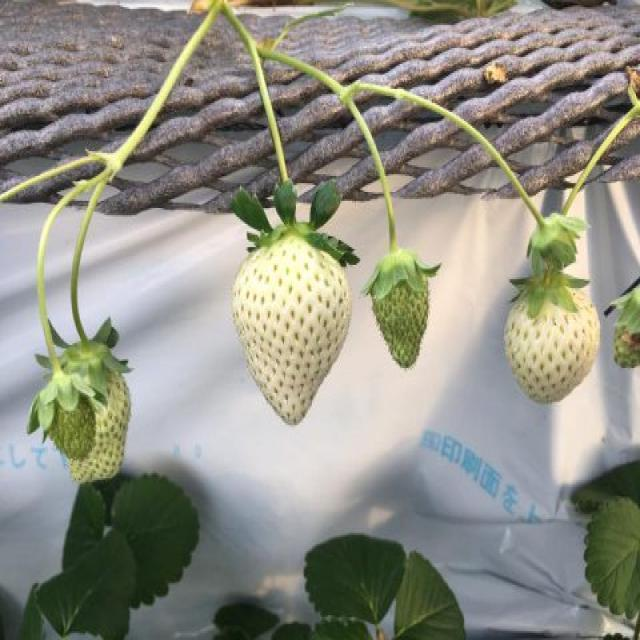Healthy Fruit: (229, 179, 359, 425), (506, 284, 605, 406), (55, 347, 131, 479), (376, 256, 434, 367)
